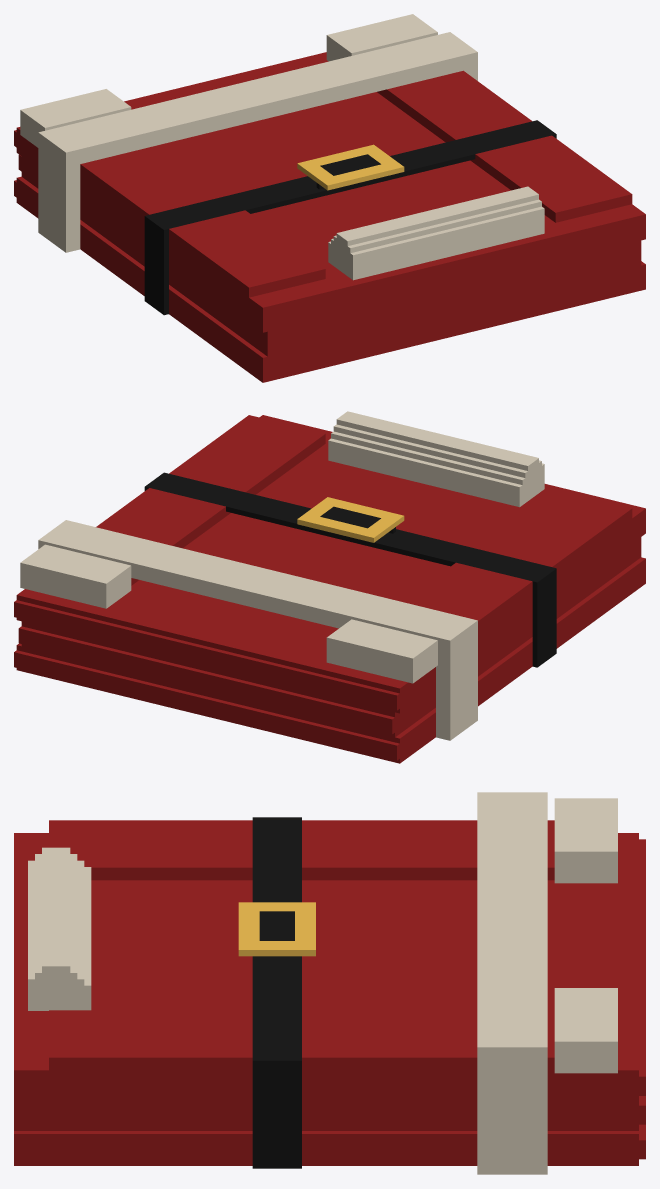
The model's file is santa_dress.glb.
3 views of the same model, one above another, from view 1: azimuth 30°, elevation 25°; view 2: azimuth 150°, elevation 25°; view 3: azimuth 270°, elevation 25° (orthographic). The views are drawn at different scales.
Parts seen in each view (by area): view 1: santa_dress:compound; view 2: santa_dress:compound; view 3: santa_dress:compound.
Boxes of the visible parts, box(x1,y1,x2,y2) form: santa_dress:compound: box(14, 14, 645, 382); santa_dress:compound: box(14, 411, 645, 763); santa_dress:compound: box(14, 792, 645, 1174).
Bounding box in the file's own units: 0.344 × 0.088 × 0.36.
